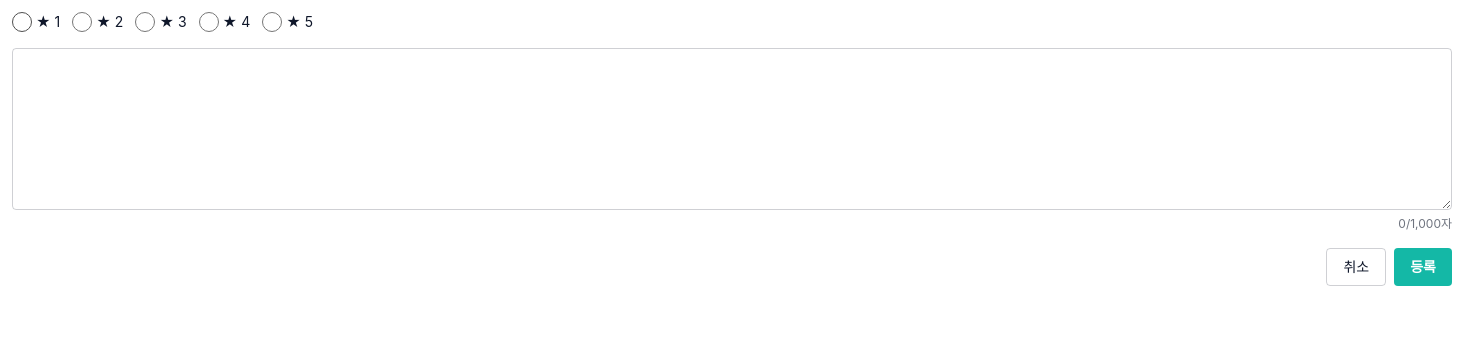
Test: 별점이 없으면 제출하지 않는다
Type "촉촉하고 순해서 좋아요" into the text box named "리뷰 내용" at (732, 129), box x1=12 y1=48 x2=1452 y2=210
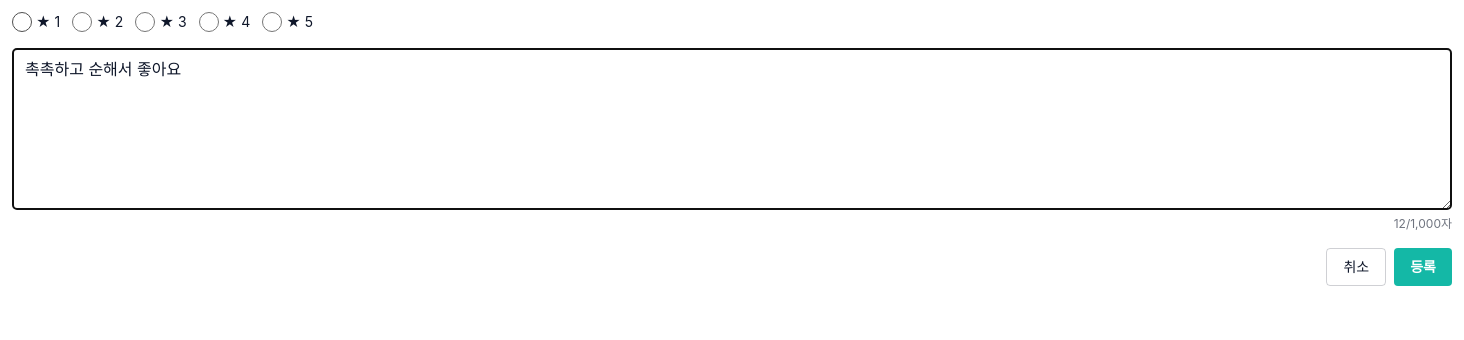
Click the button "등록" at (1423, 267), box x1=1394 y1=248 x2=1452 y2=286
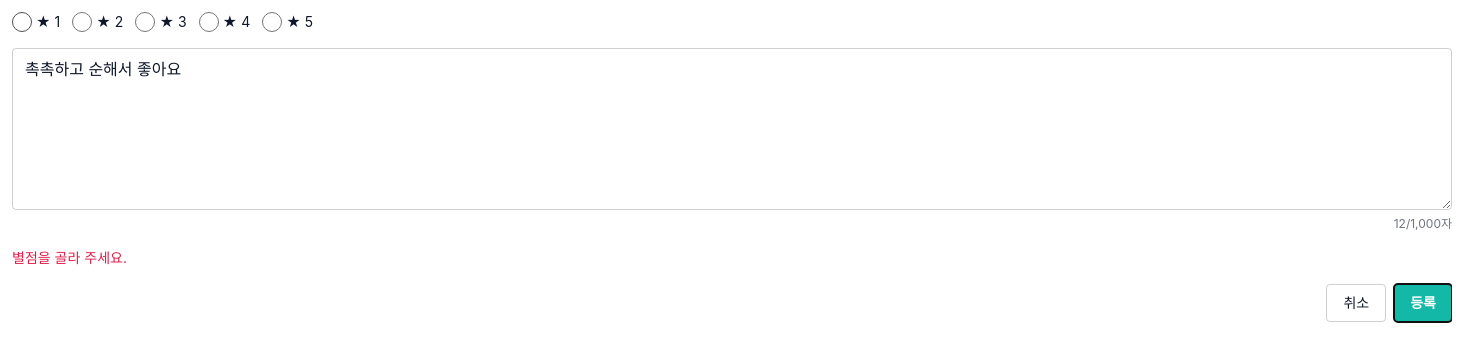
Expected: the message reads "별점을 골라 주세요.", x1=12 y1=249 x2=127 y2=266
